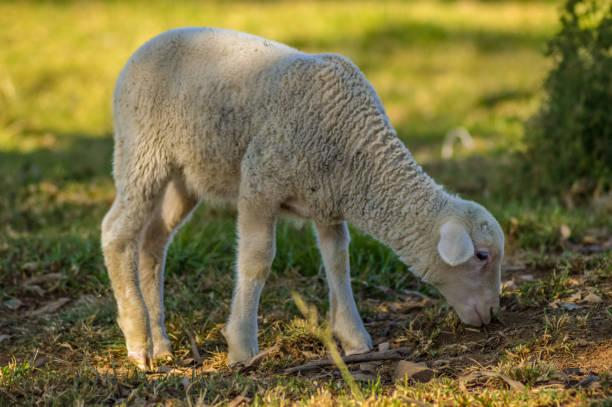Sheep: (392, 163, 532, 350)
